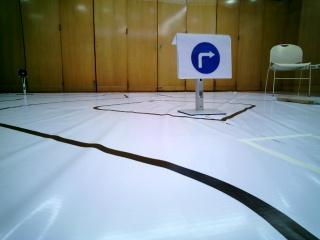right: (180, 34, 232, 80)
